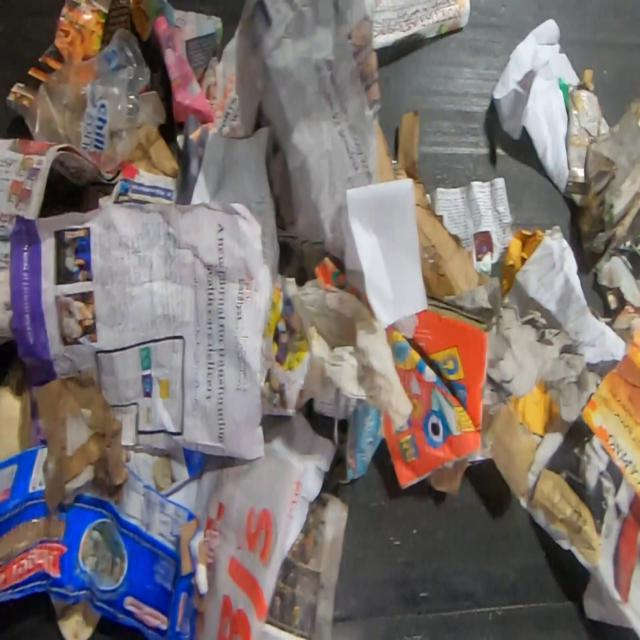cardboard: (0, 442, 208, 638), (378, 110, 488, 300), (566, 68, 640, 273), (484, 401, 538, 502)
rigid_plastic: (25, 28, 170, 174)
